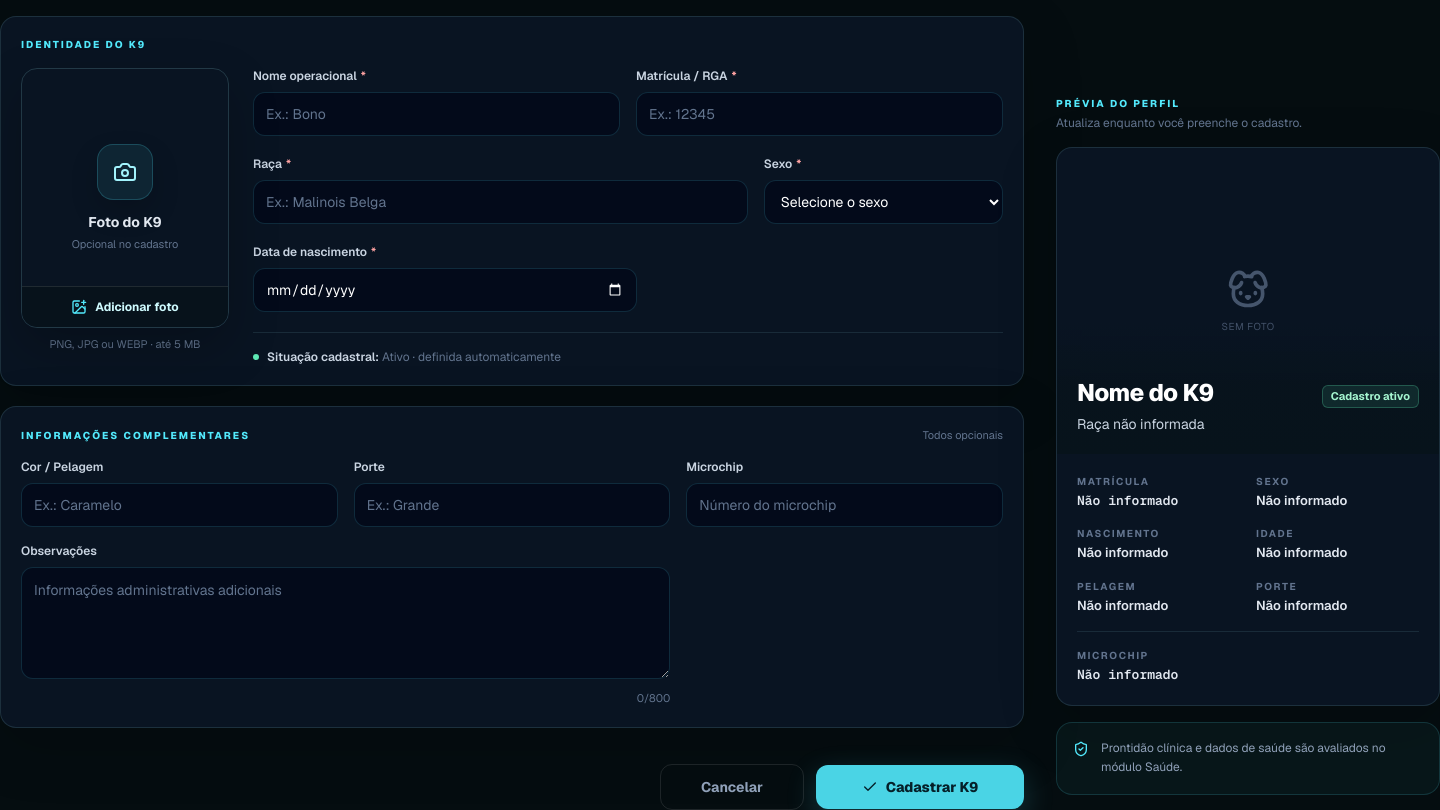
Test: K9 Create V1 › valida os obrigatórios
(page scrolled)
Click the button "Cadastrar K9".
click(920, 787)  # box [816,765,1024,809]
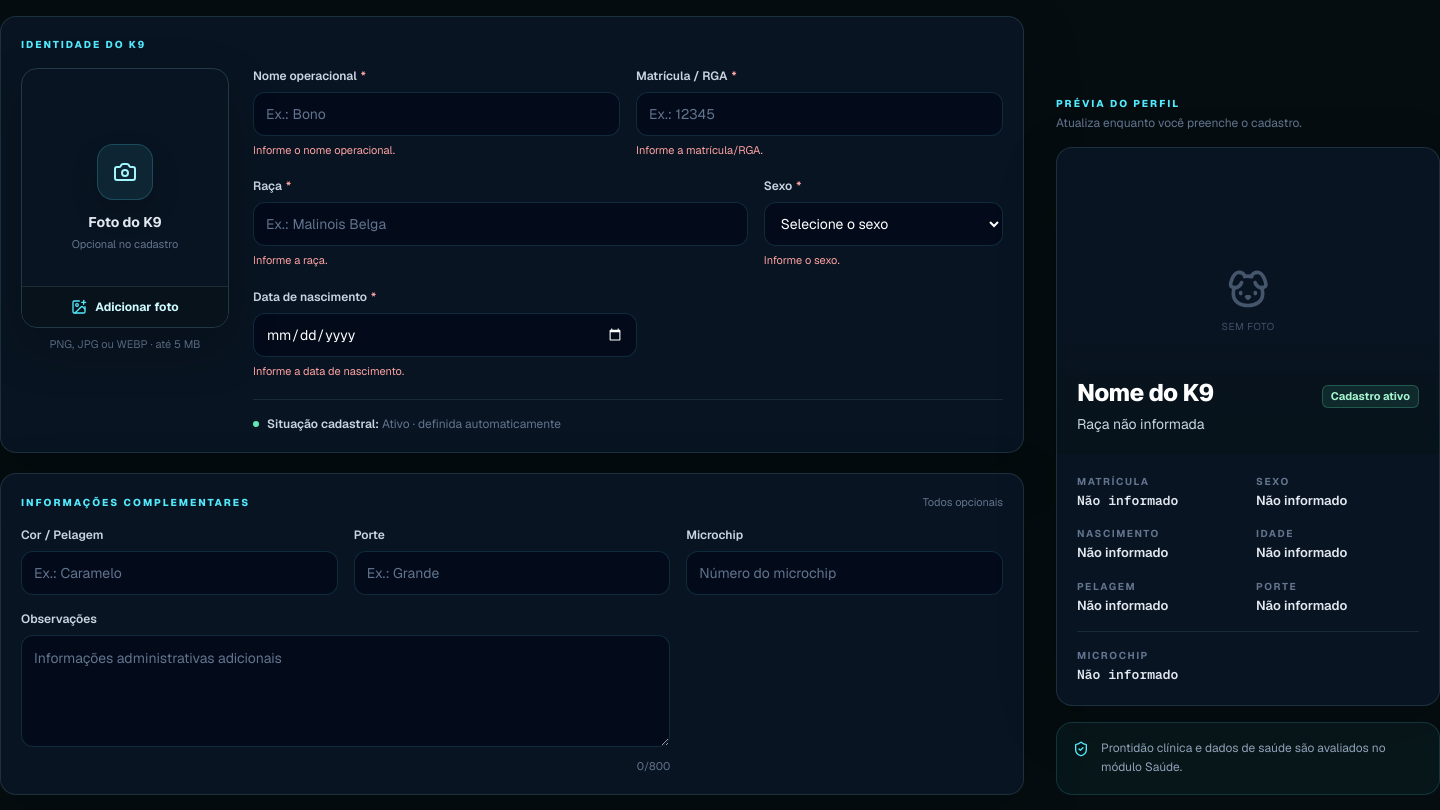
Result: the text "Informe o nome operacional." is shown at [253,143,395,157]
Result: the text "Informe a matrícula/RGA." is shown at [636,143,763,157]
Result: the text "Informe a raça." is shown at [253,253,327,267]
